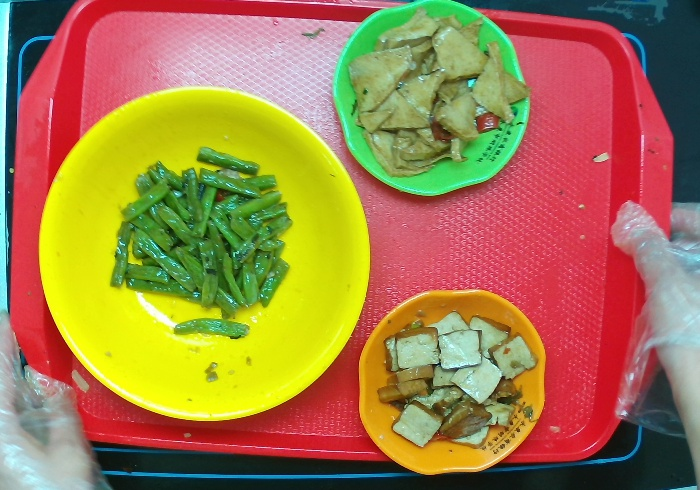YKMZ-Huang_Se_Tang_Wan: (35, 83, 371, 423)
YKMZ-Ju_Se_Ao_Bian_Wan: (360, 286, 549, 476)
YKMZ-Lv_Se_Ao_Bian_Wan: (329, 1, 529, 198)
